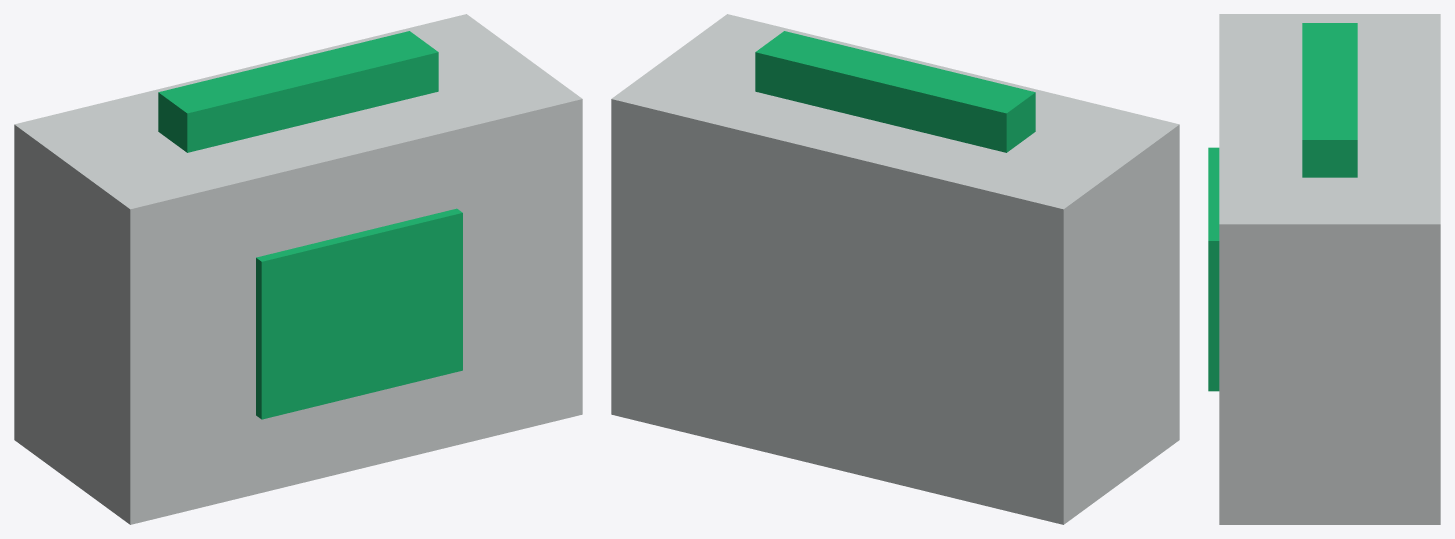
Rendered from item_F1_ReviveKit.obj.
3 views of the same model, side by side, from view 1: azimuth 30°, elevation 25°; view 2: azimuth 150°, elevation 25°; view 3: azimuth 270°, elevation 25° (orthographic). The views are drawn at different scales.
Parts seen in each view (by area): view 1: Item_F1_ReviveKit, Item_F1_ReviveKit_Mark; view 2: Item_F1_ReviveKit, Item_F1_ReviveKit_Mark; view 3: Item_F1_ReviveKit, Item_F1_ReviveKit_Mark.
Part boxes in pixels (x1,y1,x2,y2): Item_F1_ReviveKit: [14, 14, 582, 524]; Item_F1_ReviveKit_Mark: [158, 31, 462, 419]; Item_F1_ReviveKit: [611, 14, 1179, 524]; Item_F1_ReviveKit_Mark: [755, 31, 1035, 152]; Item_F1_ReviveKit: [1219, 14, 1440, 524]; Item_F1_ReviveKit_Mark: [1208, 23, 1357, 391].
Bounding box in the file's own units: 0.18 × 0.135 × 0.084.
